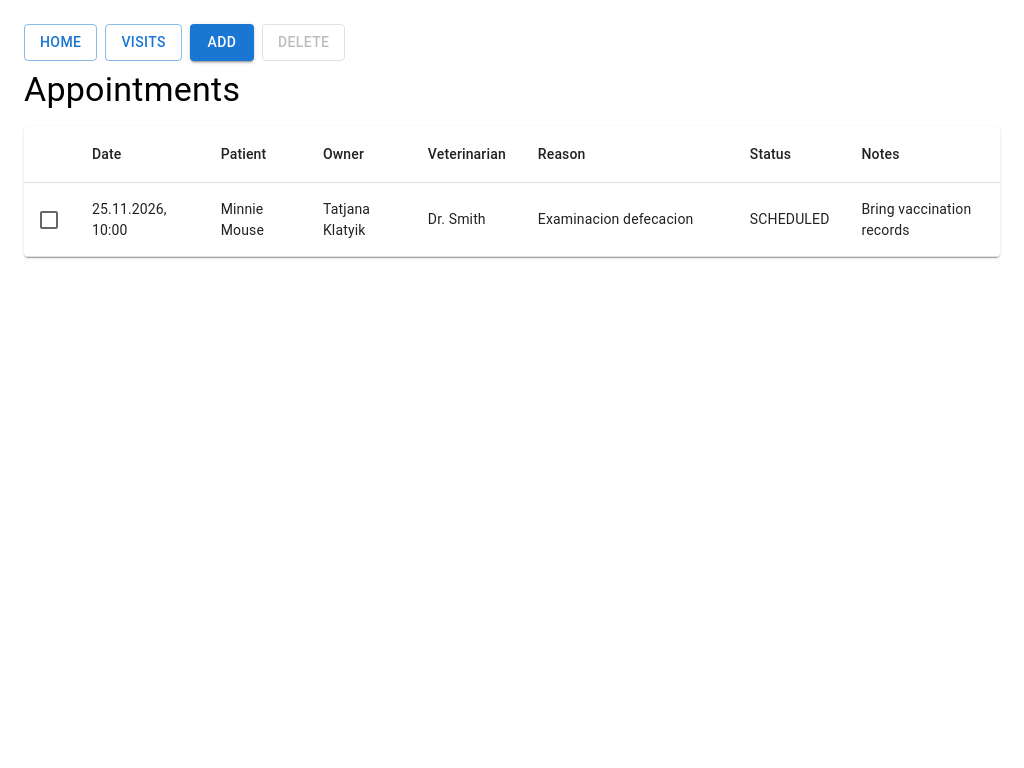
Test case: AppointmentsPage › shows appointment, pet, owner, and veterinarian details
Expected: the text "Minnie Mouse" is shown, x1=205 y1=183 x2=307 y2=256
Expected: the text "Tatjana Klatyik" is shown, x1=307 y1=183 x2=412 y2=256
Click the button "Add". click: x=222, y=42
box: x1=190 y1=24 x2=254 y2=60
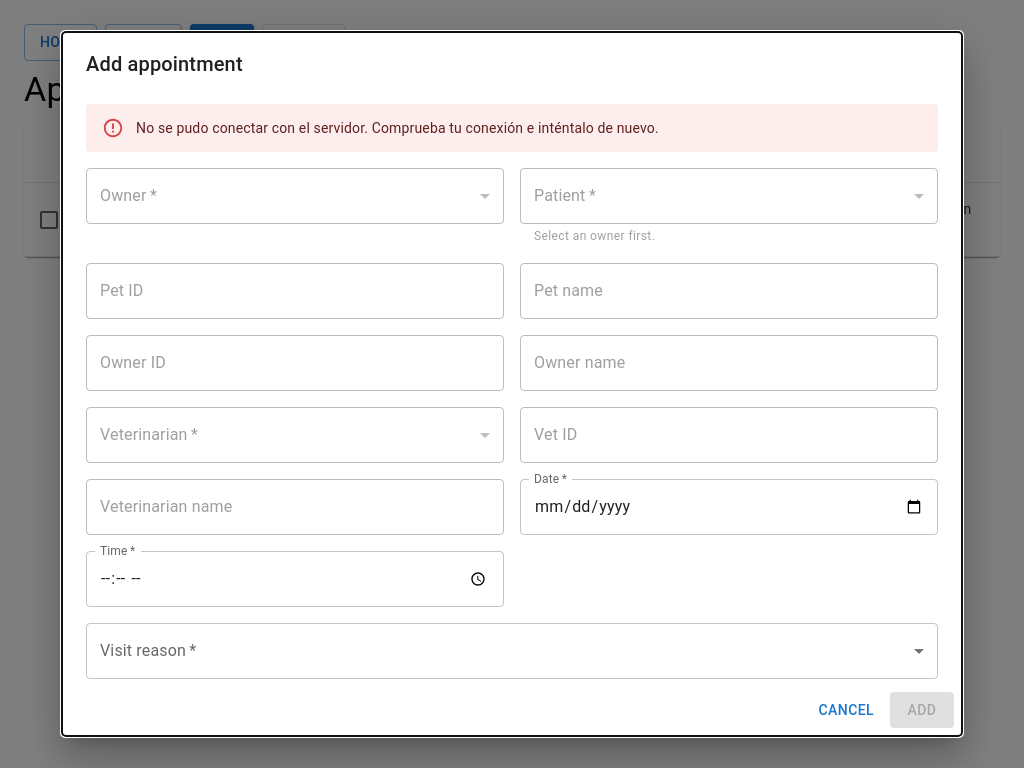
Expected: the dialog shows "Add appointment", x1=86 y1=52 x2=243 y2=76
